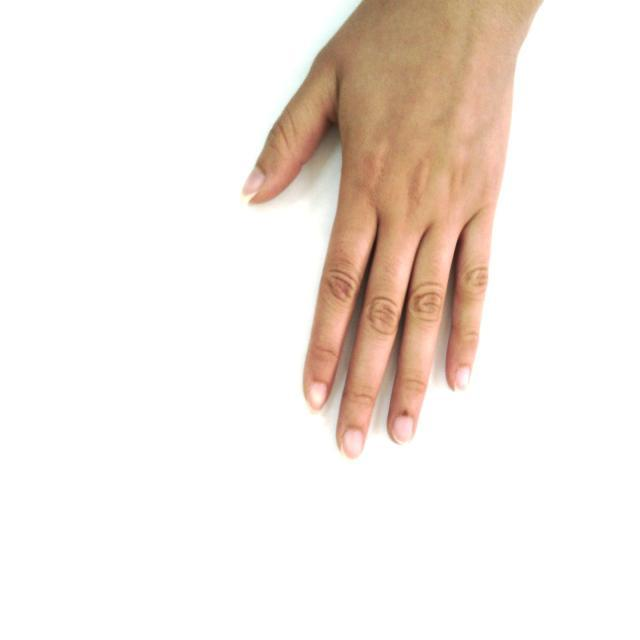Fingernail: (243, 168, 263, 198), (343, 429, 363, 459), (393, 416, 413, 443), (310, 382, 327, 410), (456, 367, 470, 390)
